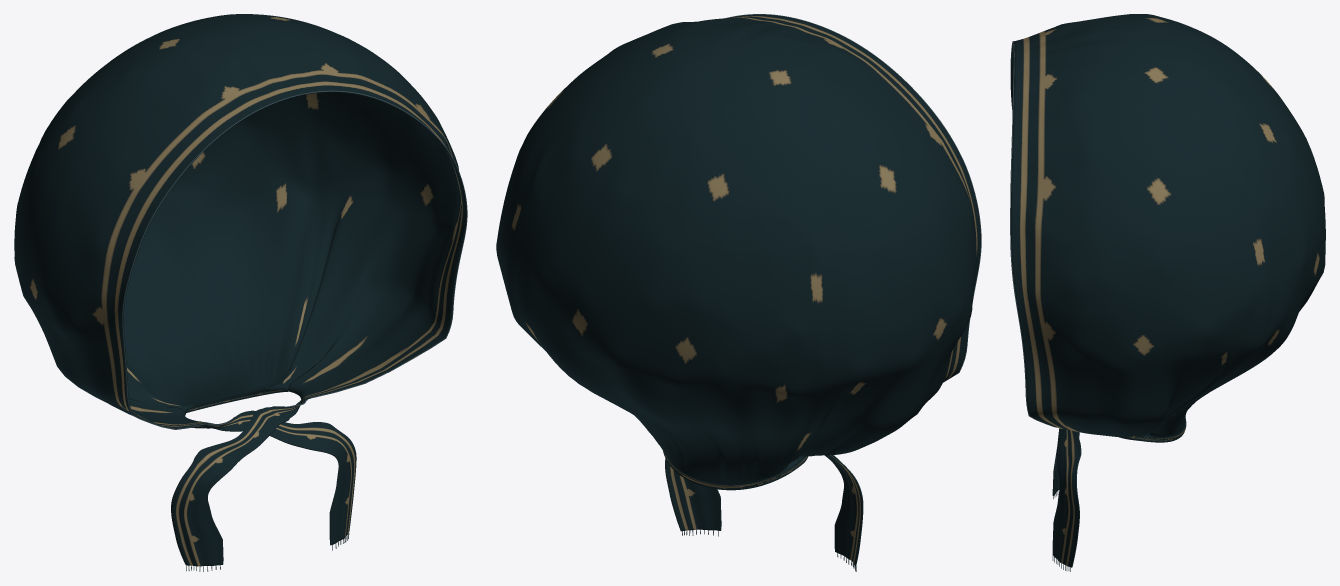
File: Masculine-afro-jersey-pashmina249-headgear.glb
The picture shows the model from 3 angles, left to right: view 1: azimuth 30°, elevation 25°; view 2: azimuth 150°, elevation 25°; view 3: azimuth 270°, elevation 25°; orthographic projection. The views are drawn at different scales.
Parts seen in each view (by area): view 1: 226 headgear / Headwear / continuous woven pashmina239, 226 headgear / Headwear / face edge239; view 2: 226 headgear / Headwear / continuous woven pashmina239, 226 headgear / Headwear / face edge239; view 3: 226 headgear / Headwear / continuous woven pashmina239, 226 headgear / Headwear / face edge239.
Part boxes in pixels (box(x1,y1,x2,y2)): 226 headgear / Headwear / continuous woven pashmina239: box(14, 14, 466, 566); 226 headgear / Headwear / face edge239: box(122, 90, 467, 429); 226 headgear / Headwear / continuous woven pashmina239: box(496, 14, 980, 566); 226 headgear / Headwear / face edge239: box(725, 14, 981, 382); 226 headgear / Headwear / continuous woven pashmina239: box(1011, 14, 1325, 567); 226 headgear / Headwear / face edge239: box(1010, 41, 1056, 427).
Size of the model in its own units: 1.24 by 1.5 by 0.8609.
3 materials, 1 textured.
